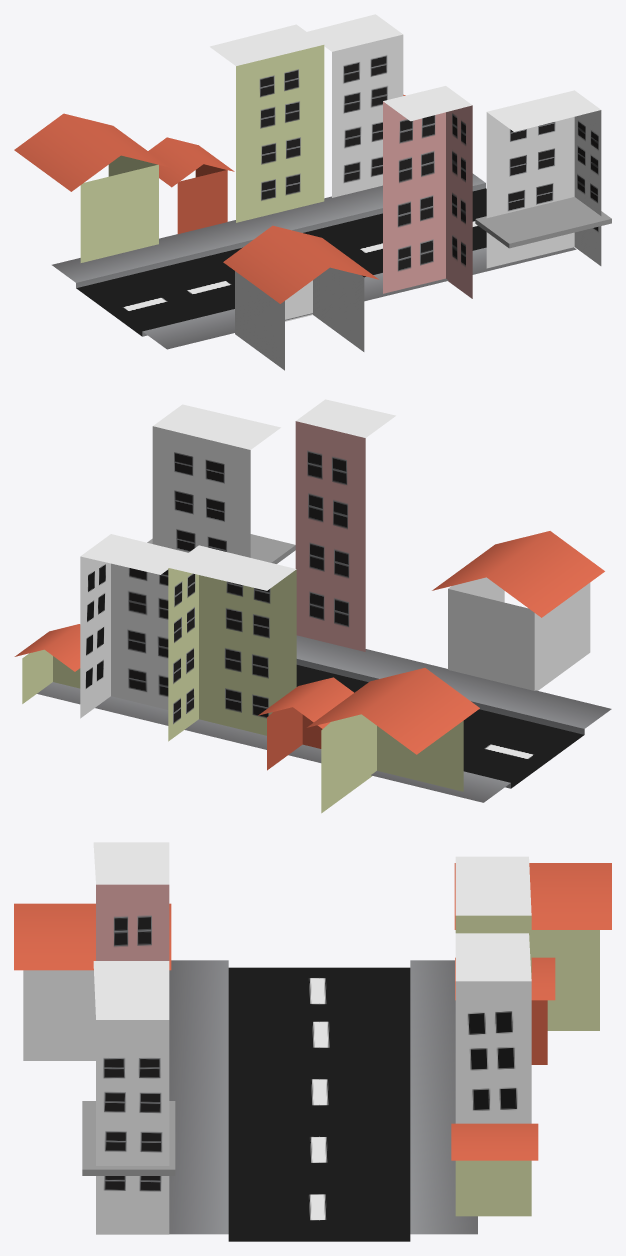
File: tile2.fbx
3 views of the same model, one above another, from view 1: azimuth 30°, elevation 25°; view 2: azimuth 150°, elevation 25°; view 3: azimuth 270°, elevation 25° (orthographic). The views are drawn at different scales.
Parts seen in each view (by area): view 1: Tile; view 2: Tile; view 3: Tile.
Boxes of the visible parts, bbox=[...] form: Tile: bbox=[14, 14, 611, 370]; Tile: bbox=[14, 399, 611, 813]; Tile: bbox=[14, 842, 611, 1241].
Size of the model in its own units: 132 by 59.86 by 119.
